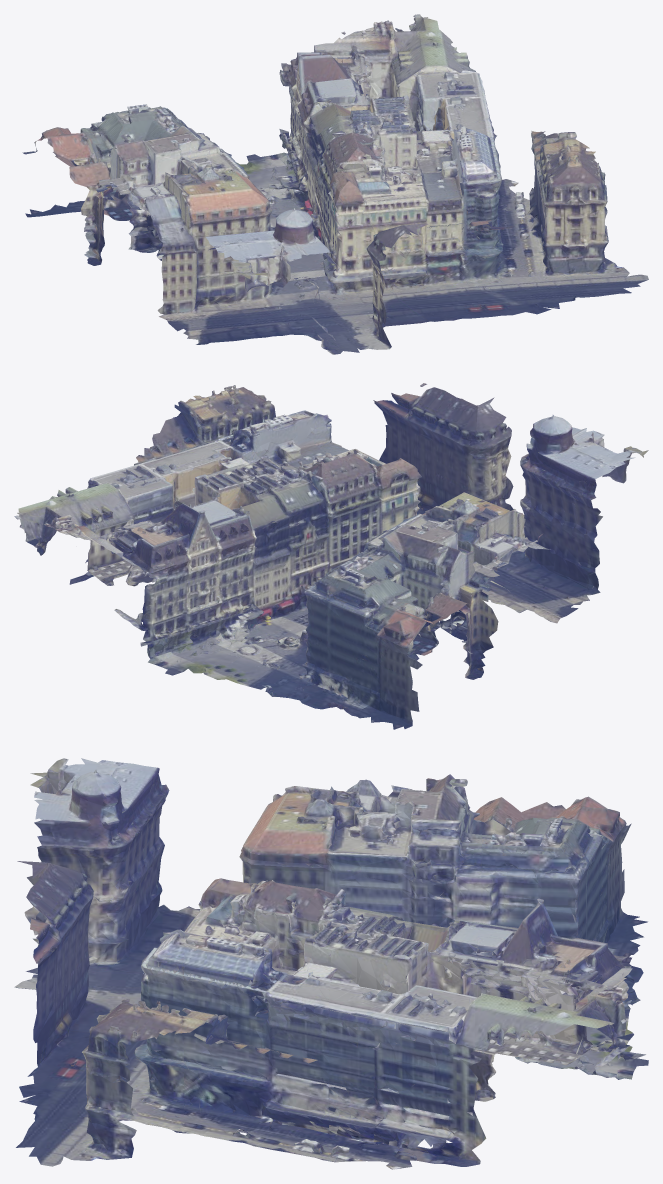
3 views of the same model, one above another, from view 1: azimuth 30°, elevation 25°; view 2: azimuth 150°, elevation 25°; view 3: azimuth 270°, elevation 25° (orthographic). The views are drawn at different scales.
Size of the model in its own units: 108 by 35.21 by 108.
Materials: 1 (1 with a texture image).
